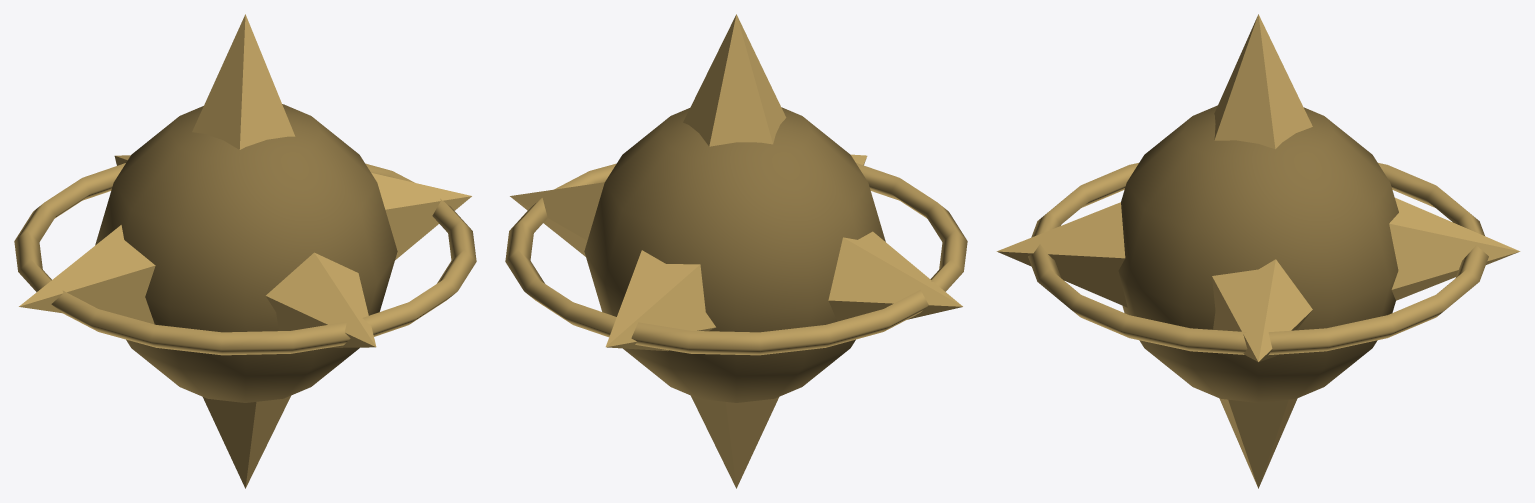
Rendered from shot_orb.glb.
3 views of the same model, side by side, from view 1: azimuth 30°, elevation 25°; view 2: azimuth 150°, elevation 25°; view 3: azimuth 270°, elevation 25° (orthographic).
Parts seen in each view (by area): view 1: glow*0.25, glow*0.5, glow*0.002, glow*0.001, glow*0.004, glow*0.003, glow*0.6; view 2: glow*0.25, glow*0.5, glow*0.002, glow*0.001, glow*0.005, glow*0.003, glow*0.6; view 3: glow*0.25, glow*0.5, glow*0.002, glow*0.004, glow*0.005, glow*0.6, glow*0.003.
Boxes of the visible parts, bbox=[...] form: glow*0.25: bbox=[95, 104, 397, 402]; glow*0.5: bbox=[14, 163, 476, 355]; glow*0.002: bbox=[192, 14, 295, 149]; glow*0.001: bbox=[19, 225, 155, 324]; glow*0.004: bbox=[266, 252, 376, 347]; glow*0.003: bbox=[203, 395, 290, 488]; glow*0.6: bbox=[371, 173, 471, 260]; glow*0.25: bbox=[584, 107, 885, 402]; glow*0.5: bbox=[505, 163, 967, 355]; glow*0.002: bbox=[683, 14, 786, 146]; glow*0.001: bbox=[828, 231, 962, 321]; glow*0.005: bbox=[605, 250, 715, 351]; glow*0.003: bbox=[691, 395, 778, 488]; glow*0.6: bbox=[510, 182, 604, 256]; glow*0.25: bbox=[1118, 105, 1398, 402]; glow*0.5: bbox=[1028, 163, 1488, 355]; glow*0.002: bbox=[1214, 14, 1312, 149]; glow*0.004: bbox=[996, 202, 1127, 307]; glow*0.005: bbox=[1389, 197, 1520, 300]; glow*0.6: bbox=[1212, 259, 1312, 361]; glow*0.003: bbox=[1219, 398, 1297, 488].
Size of the model in its own units: 0.62 by 0.62 by 0.62.
